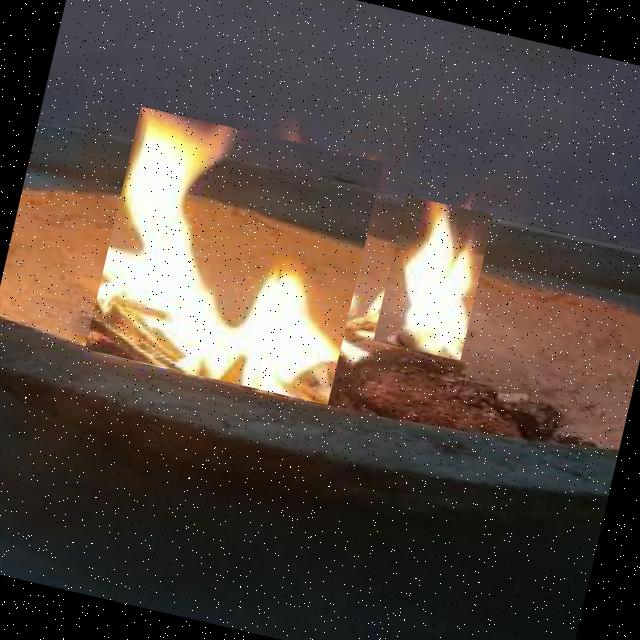fire: (84, 106, 383, 405), (373, 196, 493, 360)
